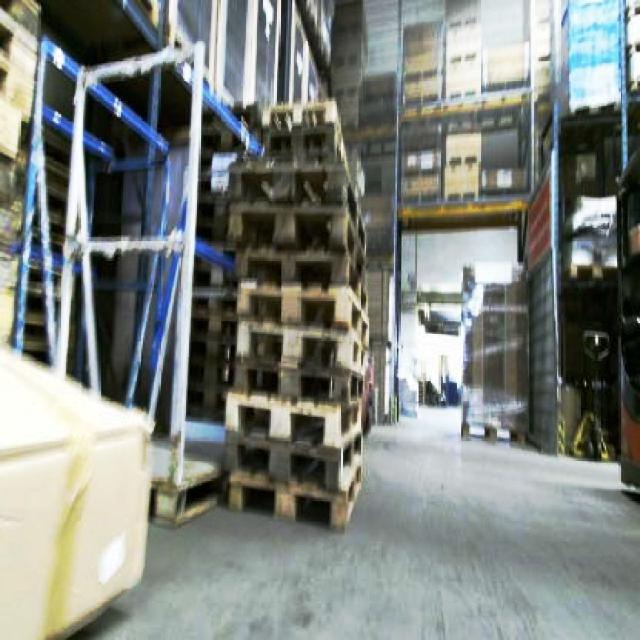ground: (43, 402, 638, 638)
pallet: (220, 95, 371, 531), (0, 334, 154, 638), (387, 0, 550, 221), (457, 260, 529, 443), (614, 0, 638, 514)
